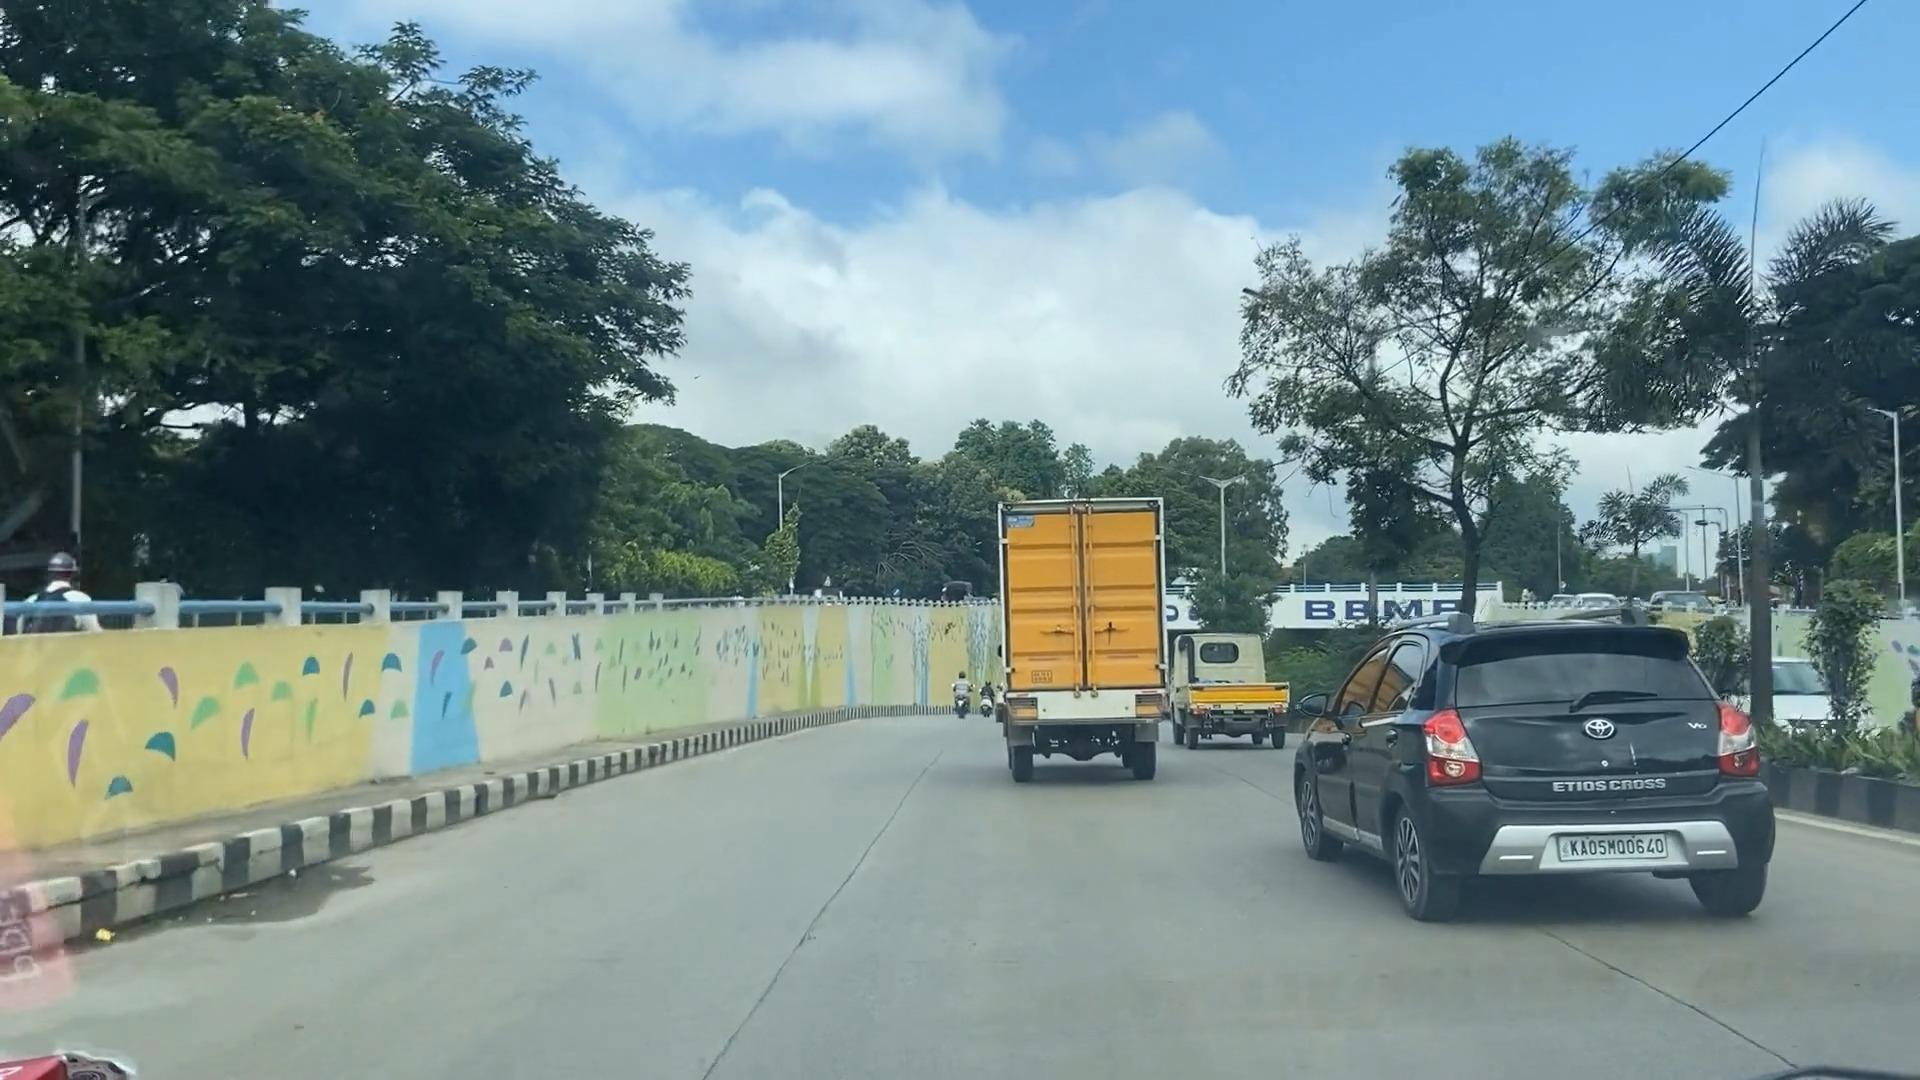HMV: (992, 508, 1180, 766)
LMV: (1312, 640, 1762, 919)
